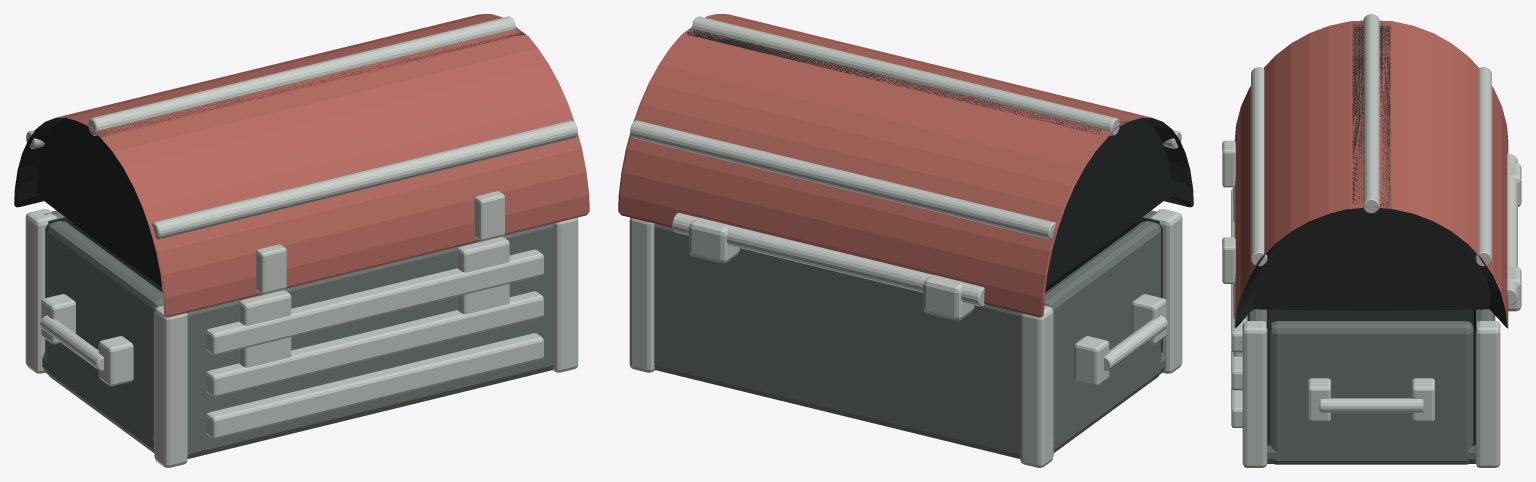
The model's file is 14_chest_domed_tool_case.glb.
3 views of the same model, side by side, from view 1: azimuth 30°, elevation 25°; view 2: azimuth 150°, elevation 25°; view 3: azimuth 270°, elevation 25° (orthographic). The views are drawn at different scales.
Parts seen in each view (by area): view 1: CHEST_DOME_Arched_Lid, CHEST_DOME_Front_Wall, CHEST_DOME_Left_Wall, CHEST_DOME_Front_Horizontal_Band_0, CHEST_DOME_Front_Horizontal_Band_2, CHEST_DOME_Front_Horizontal_Band_1, CHEST_DOME_Arched_Lid_Rib_0, CHEST_DOME_Arched_Lid_Rib_1, CHEST_DOME_Corner_Post_-1.0_-1.0, CHEST_DOME_Corner_Post_1.0_-1.0, CHEST_DOME_Corner_Post_-1.0_1.0, CHEST_DOME_Bottom_Slab (+8 smaller); view 2: CHEST_DOME_Arched_Lid, CHEST_DOME_Back_Wall, CHEST_DOME_Left_Wall, CHEST_DOME_Arched_Lid_Rib_2, CHEST_DOME_Arched_Lid_Rib_1, CHEST_DOME_Corner_Post_-1.0_1.0, CHEST_DOME_Rear_Hinge_Rod, CHEST_DOME_Corner_Post_1.0_1.0, CHEST_DOME_Corner_Post_-1.0_-1.0, CHEST_DOME_Rear_Hinge_Bridge_0, CHEST_DOME_Rear_Hinge_Bridge_1, CHEST_DOME_Left_Handle_Back_Mount (+3 smaller); view 3: CHEST_DOME_Arched_Lid, CHEST_DOME_Right_Wall, CHEST_DOME_Corner_Post_1.0_-1.0, CHEST_DOME_Corner_Post_1.0_1.0, CHEST_DOME_Bottom_Slab, CHEST_DOME_Arched_Lid_Rib_1, CHEST_DOME_Arched_Lid_Rib_0, CHEST_DOME_Arched_Lid_Rib_2, CHEST_DOME_Right_Handle_Grip, CHEST_DOME_Rear_Hinge_Rod, CHEST_DOME_Right_Handle_Front_Mount, CHEST_DOME_Right_Handle_Back_Mount (+9 smaller).
Boxes of the visible parts, x1=… form: CHEST_DOME_Arched_Lid: x1=14, y1=14, x2=589, y2=317; CHEST_DOME_Front_Wall: x1=187, y1=223, x2=553, y2=458; CHEST_DOME_Left_Wall: x1=46, y1=221, x2=163, y2=452; CHEST_DOME_Front_Horizontal_Band_0: x1=206, y1=333, x2=543, y2=438; CHEST_DOME_Front_Horizontal_Band_2: x1=206, y1=249, x2=543, y2=355; CHEST_DOME_Front_Horizontal_Band_1: x1=206, y1=291, x2=543, y2=396; CHEST_DOME_Arched_Lid_Rib_0: x1=150, y1=120, x2=577, y2=239; CHEST_DOME_Arched_Lid_Rib_1: x1=88, y1=16, x2=515, y2=135; CHEST_DOME_Corner_Post_-1.0_-1.0: x1=154, y1=305, x2=187, y2=467; CHEST_DOME_Corner_Post_1.0_-1.0: x1=553, y1=217, x2=578, y2=372; CHEST_DOME_Corner_Post_-1.0_1.0: x1=25, y1=209, x2=57, y2=373; CHEST_DOME_Bottom_Slab: x1=42, y1=351, x2=553, y2=453; CHEST_DOME_Arched_Lid: x1=618, y1=14, x2=1193, y2=317; CHEST_DOME_Back_Wall: x1=654, y1=223, x2=1020, y2=458; CHEST_DOME_Left_Wall: x1=1044, y1=221, x2=1161, y2=452; CHEST_DOME_Arched_Lid_Rib_2: x1=630, y1=120, x2=1057, y2=239; CHEST_DOME_Arched_Lid_Rib_1: x1=692, y1=16, x2=1119, y2=135; CHEST_DOME_Corner_Post_-1.0_1.0: x1=1020, y1=305, x2=1053, y2=467; CHEST_DOME_Rear_Hinge_Rod: x1=672, y1=212, x2=984, y2=306; CHEST_DOME_Corner_Post_1.0_1.0: x1=629, y1=217, x2=654, y2=372; CHEST_DOME_Corner_Post_-1.0_-1.0: x1=1150, y1=209, x2=1182, y2=373; CHEST_DOME_Rear_Hinge_Bridge_0: x1=923, y1=275, x2=974, y2=320; CHEST_DOME_Rear_Hinge_Bridge_1: x1=689, y1=217, x2=739, y2=263; CHEST_DOME_Left_Handle_Back_Mount: x1=1074, y1=336, x2=1109, y2=386; CHEST_DOME_Arched_Lid: x1=1234, y1=20, x2=1508, y2=328; CHEST_DOME_Right_Wall: x1=1269, y1=321, x2=1473, y2=464; CHEST_DOME_Corner_Post_1.0_-1.0: x1=1242, y1=321, x2=1267, y2=467; CHEST_DOME_Corner_Post_1.0_1.0: x1=1475, y1=321, x2=1500, y2=467; CHEST_DOME_Bottom_Slab: x1=1267, y1=309, x2=1475, y2=463; CHEST_DOME_Arched_Lid_Rib_1: x1=1363, y1=14, x2=1379, y2=213; CHEST_DOME_Arched_Lid_Rib_0: x1=1251, y1=67, x2=1267, y2=266; CHEST_DOME_Arched_Lid_Rib_2: x1=1475, y1=67, x2=1491, y2=266; CHEST_DOME_Right_Handle_Grip: x1=1319, y1=398, x2=1423, y2=412; CHEST_DOME_Rear_Hinge_Rod: x1=1507, y1=154, x2=1517, y2=305; CHEST_DOME_Right_Handle_Front_Mount: x1=1308, y1=378, x2=1330, y2=421; CHEST_DOME_Right_Handle_Back_Mount: x1=1412, y1=378, x2=1434, y2=421.
Size of the model in its own units: 0.948 by 0.5818 by 0.58.
